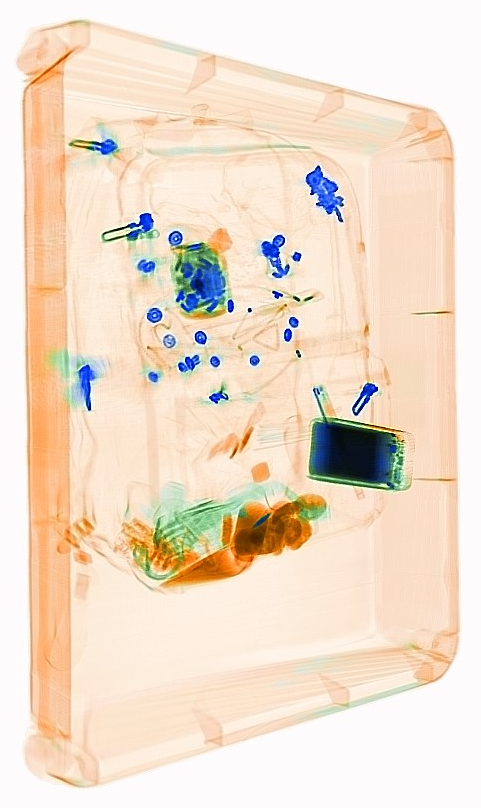PortableBattery: (300, 411, 418, 497)
